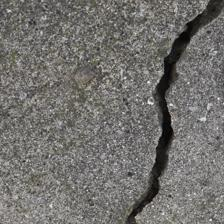Crack: (62, 3, 157, 217)
